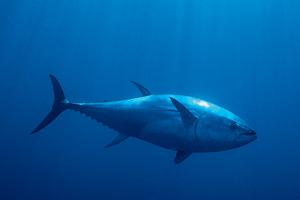Bluefina Tuna: (31, 62, 263, 171)
